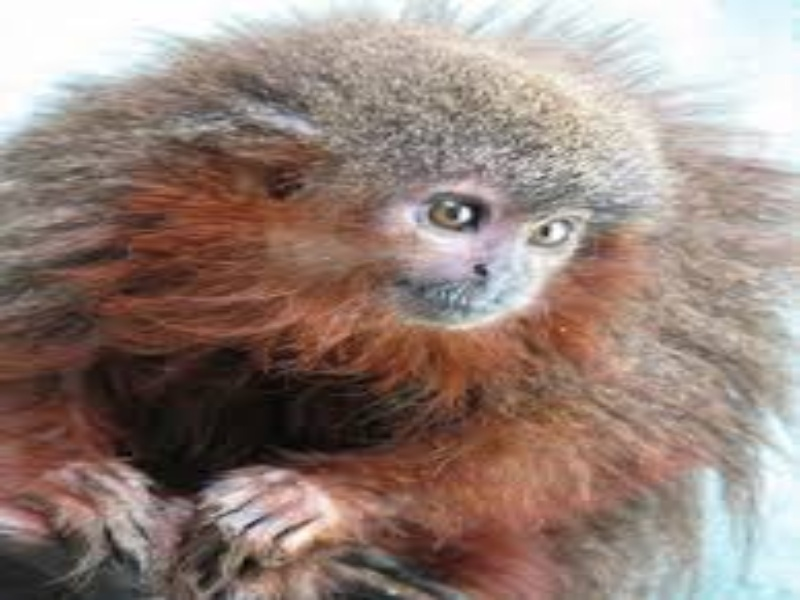monkey: (12, 32, 735, 582)
